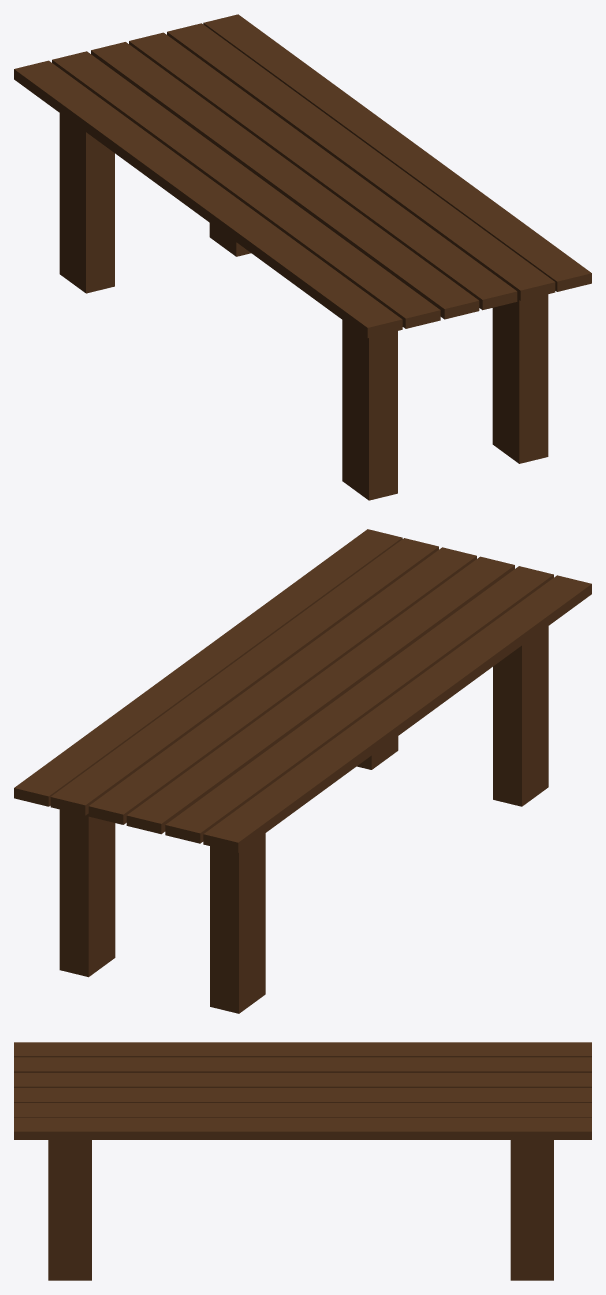
File: I_Wooden_Table.fbx
The picture shows the model from 3 angles, top to bottom: view 1: azimuth 30°, elevation 25°; view 2: azimuth 150°, elevation 25°; view 3: azimuth 270°, elevation 25°; orthographic projection. The views are drawn at different scales.
Parts seen in each view (by area): view 1: Cube.001; view 2: Cube.001; view 3: Cube.001.
Boxes of the visible parts, <box> form: Cube.001: <box>14,14,591,500</box>; Cube.001: <box>14,529,591,1013</box>; Cube.001: <box>14,1042,591,1280</box>.
Size of the model in its own units: 122 by 100 by 332.
